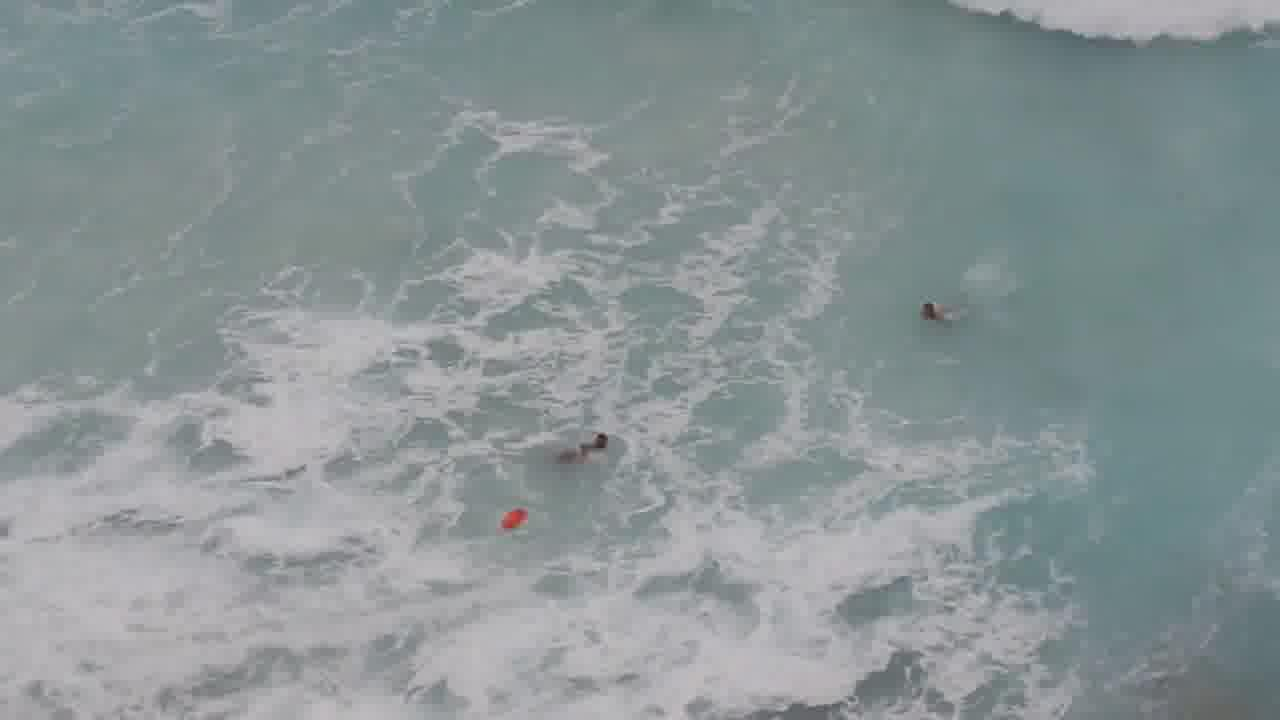human: (565, 424, 627, 462), (911, 292, 956, 333)
